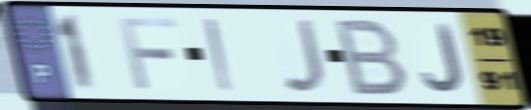1: (53, 10, 103, 96)
B: (333, 16, 412, 98)
F: (115, 15, 181, 92)
I: (200, 15, 239, 94)
J: (279, 16, 329, 96), (418, 21, 466, 95)
